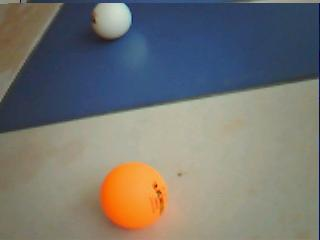oball: (99, 162, 169, 227)
